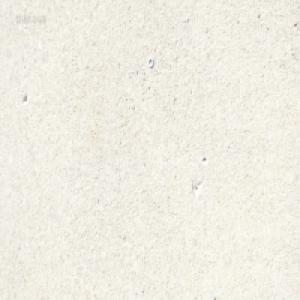Washer: (147, 57, 153, 68)
